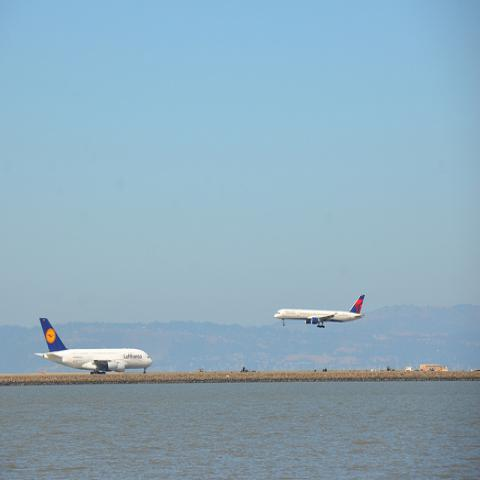bus: (420, 364, 440, 371)
